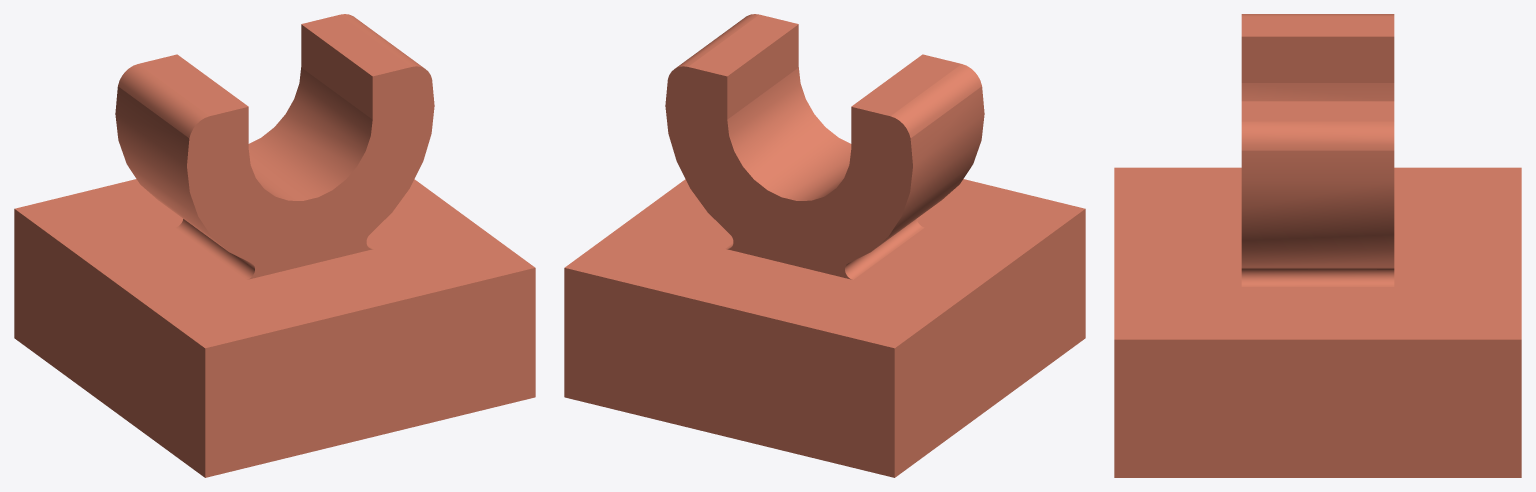
The picture shows the model from 3 angles, left to right: view 1: azimuth 30°, elevation 25°; view 2: azimuth 150°, elevation 25°; view 3: azimuth 270°, elevation 25°; orthographic projection. The views are drawn at different scales.
Parts seen in each view (by area): view 1: [pivoted]; view 2: [pivoted]; view 3: [pivoted].
Boxes of the visible parts, x1=… form: [pivoted]: x1=14, y1=14, x2=535, y2=477; [pivoted]: x1=564, y1=14, x2=1085, y2=477; [pivoted]: x1=1114, y1=14, x2=1521, y2=477.
Size of the model in its own units: 0.8 by 0.7 by 0.8.
